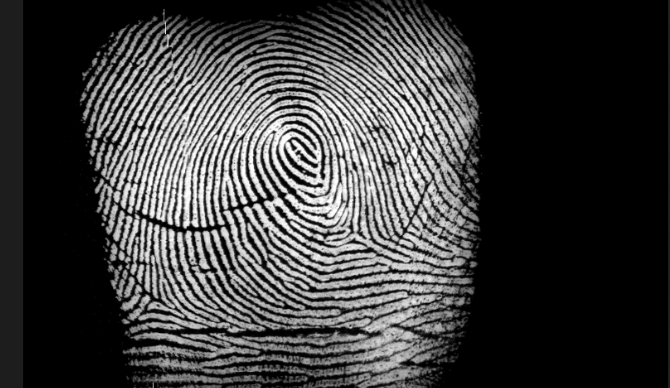nucelo: (276, 133, 319, 174)
verticilo: (136, 283, 171, 317), (341, 215, 368, 242)
